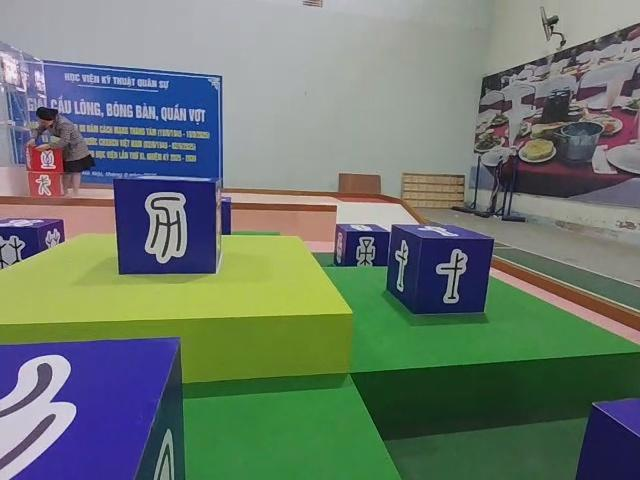R2 Fake Blue: (115, 175, 227, 279)
R2 Real Blue: (384, 224, 493, 318), (0, 220, 64, 271), (334, 226, 392, 270)
